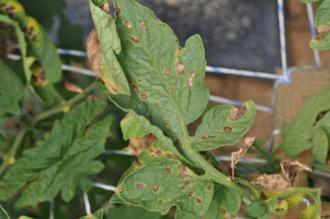Tomato Early blight leaf: (51, 0, 253, 166), (110, 133, 224, 219), (177, 82, 269, 173), (0, 13, 84, 110)
